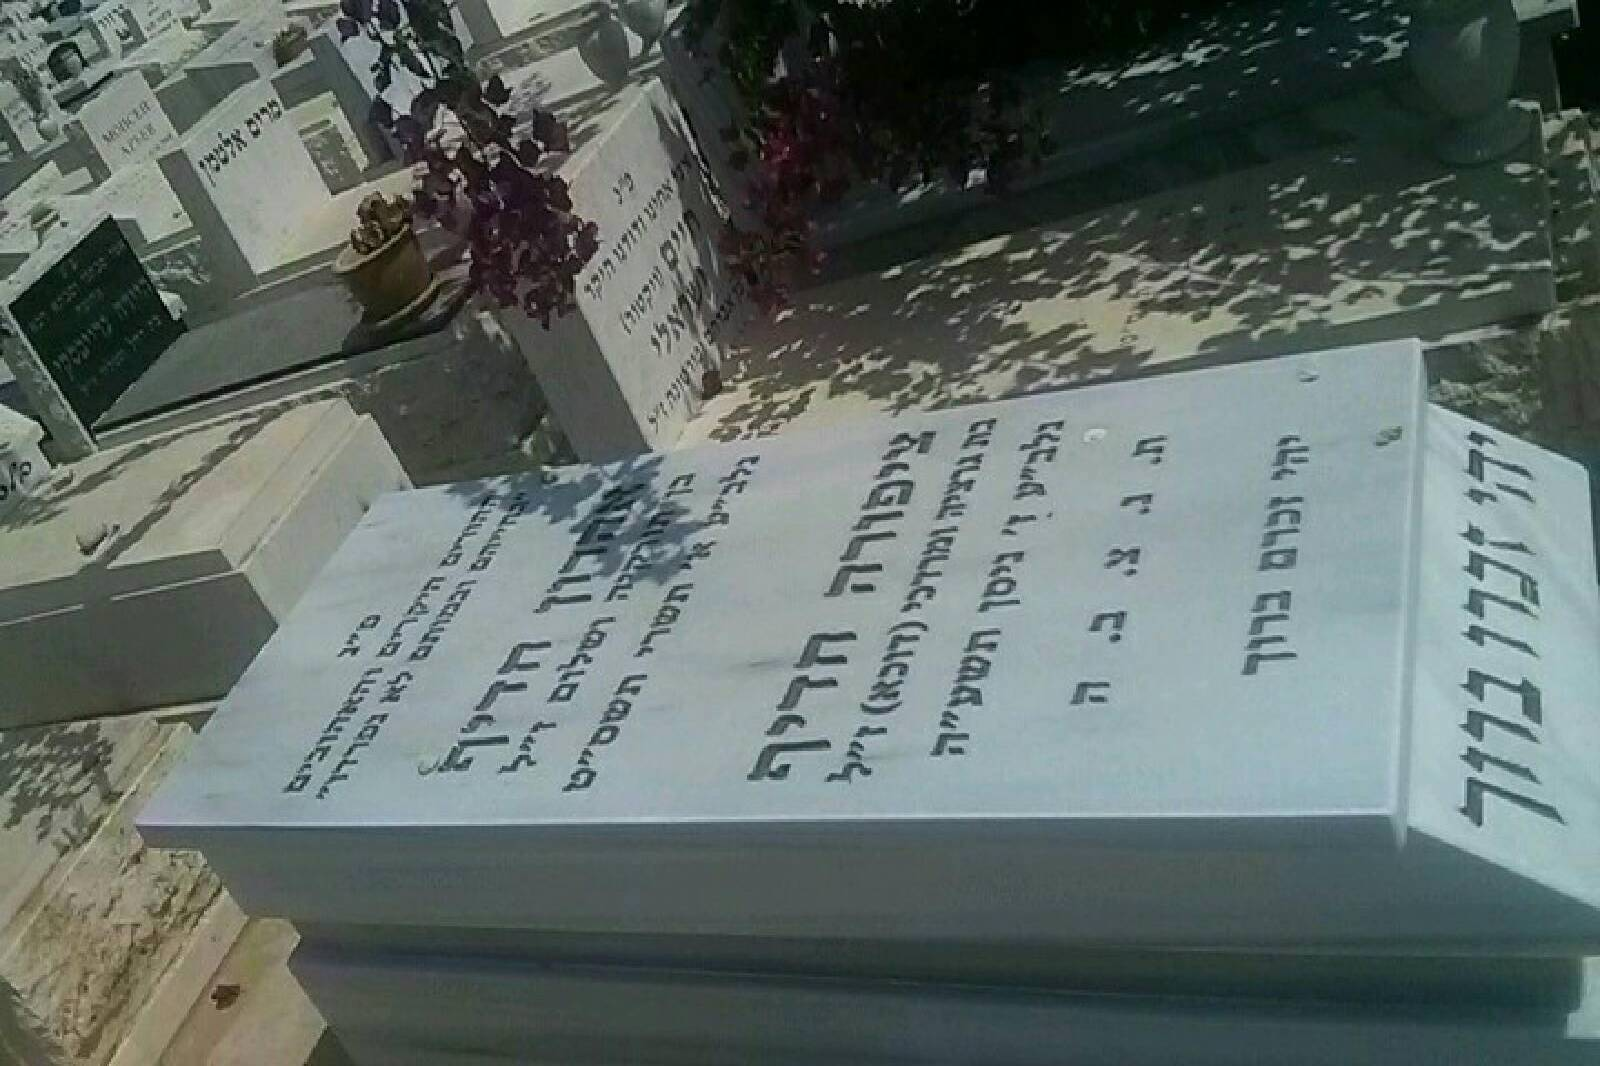vault: (136, 339, 1600, 1051)
